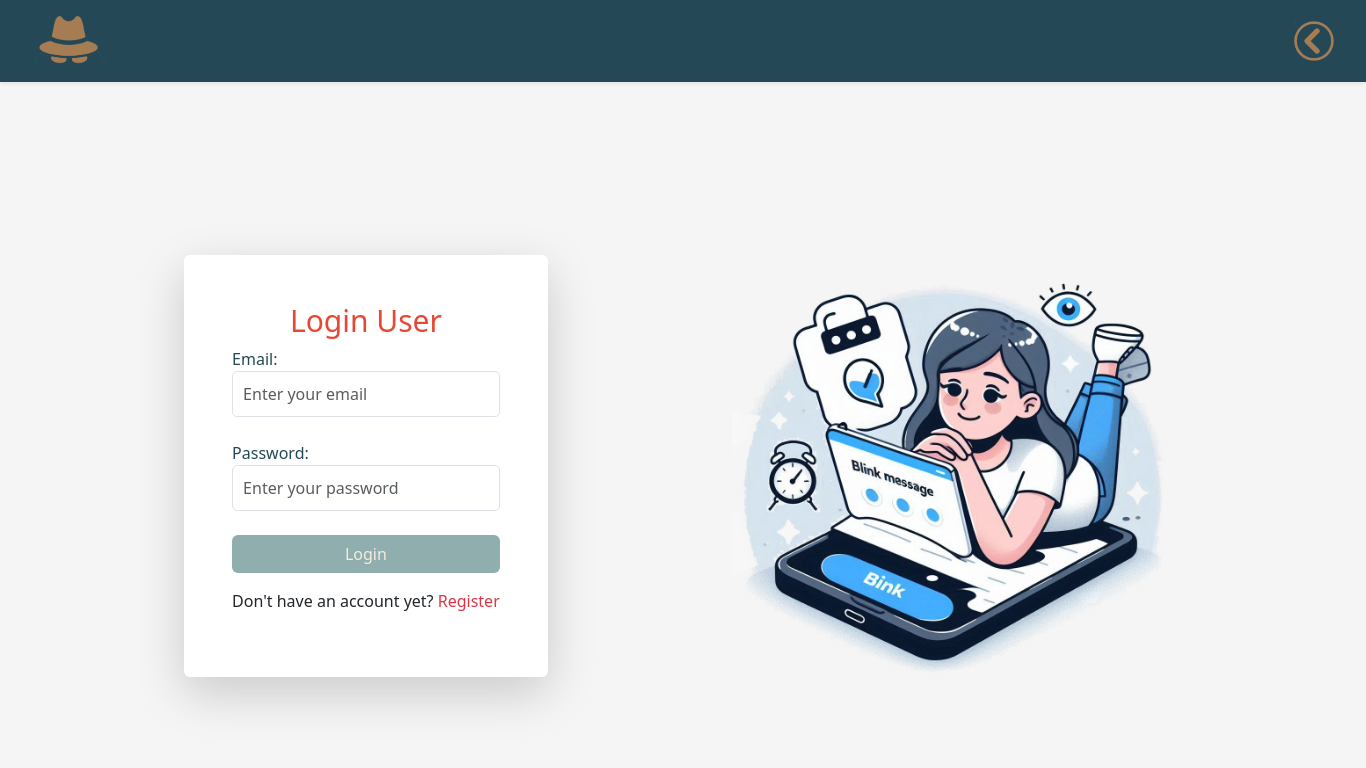
Test: Login › should fail if password or username are empty
Step 1. Click the button "Login" → (366, 554), box 232,535 -> 500,573
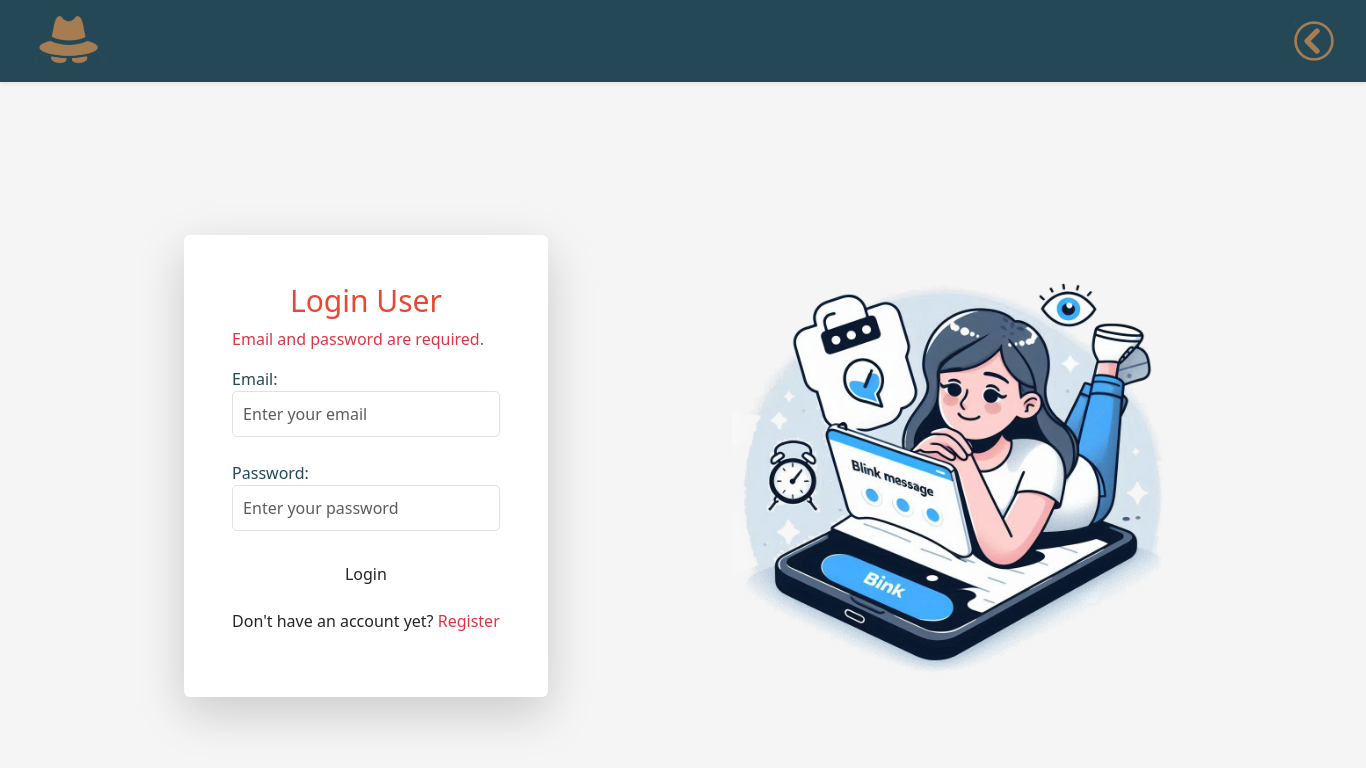
Result: the text "Email and password are required." is shown at 232,327 -> 500,351
Step 2. Type "test@test.com" into the field labelled "Email:" → (366, 414), box 232,391 -> 500,437
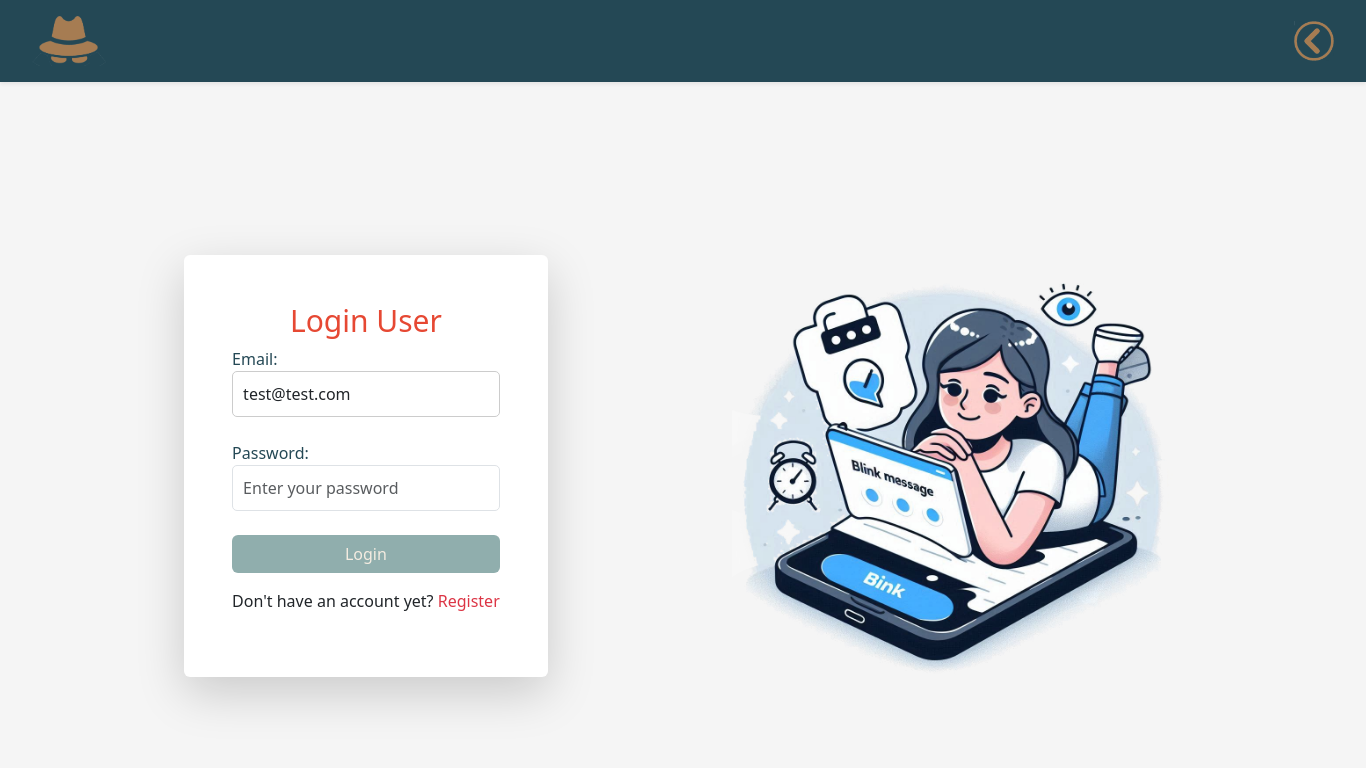
Step 3. Click the button "Login" → (366, 554), box 232,535 -> 500,573
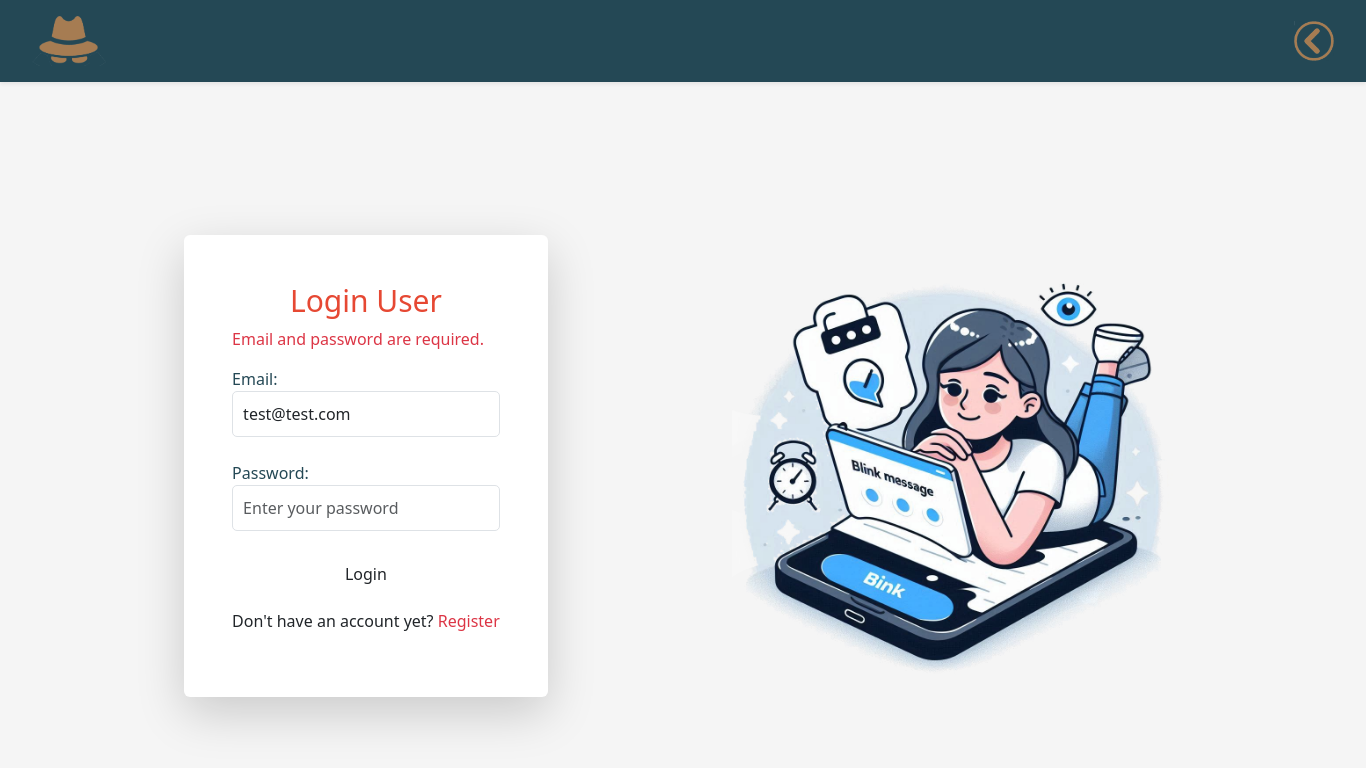
Result: the text "Email and password are required." is shown at 232,327 -> 500,351
